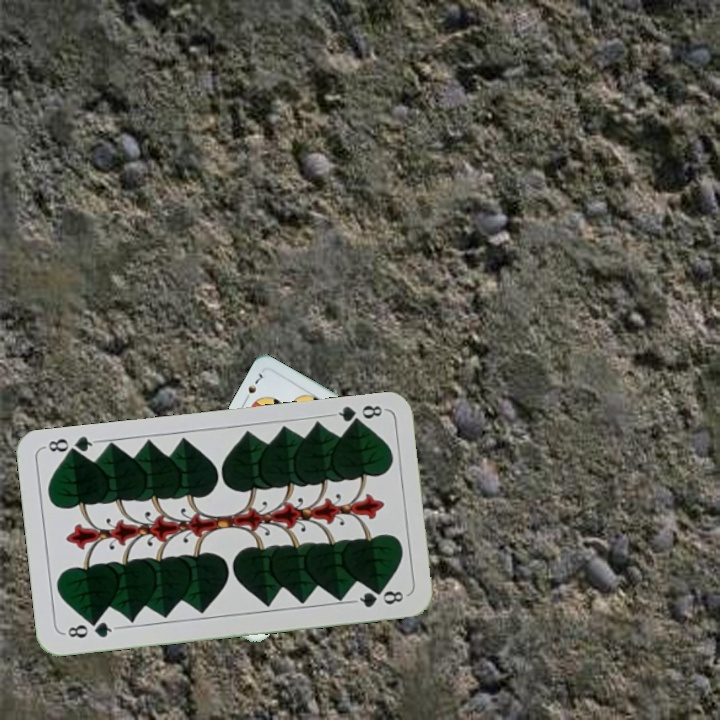G8: (328, 401, 385, 430), (60, 617, 119, 641)
S7: (240, 369, 265, 405)
